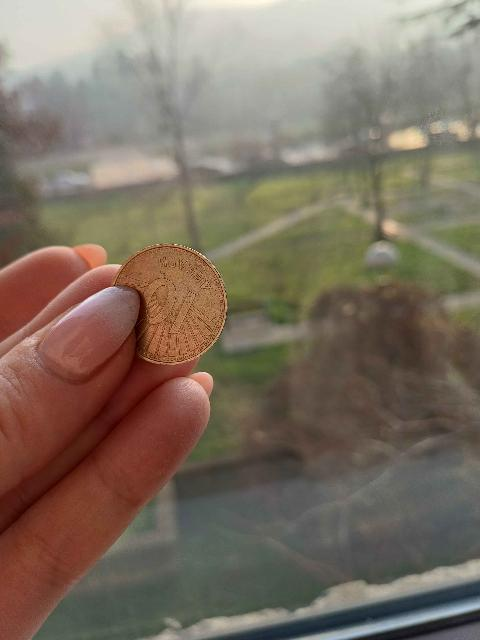coin: (113, 244, 227, 364)
